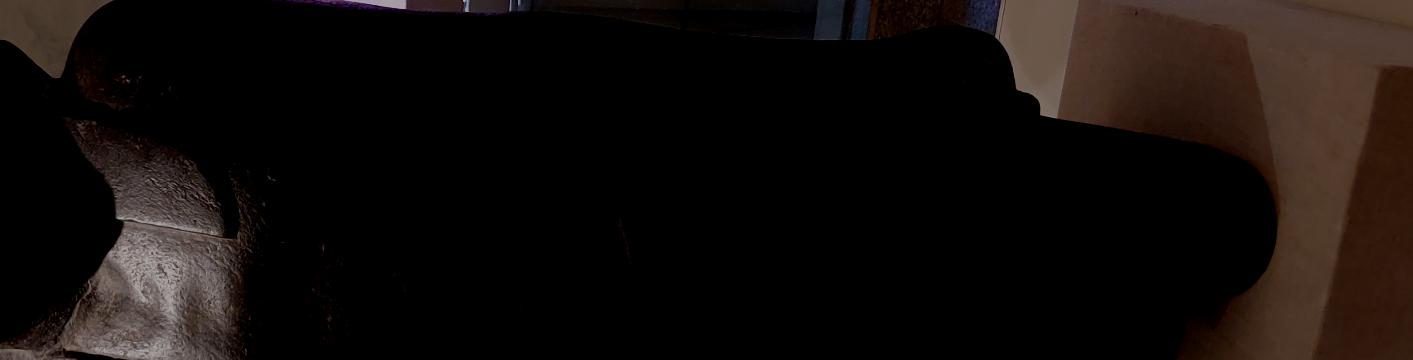RoyalStatues: (0, 21, 271, 360)
